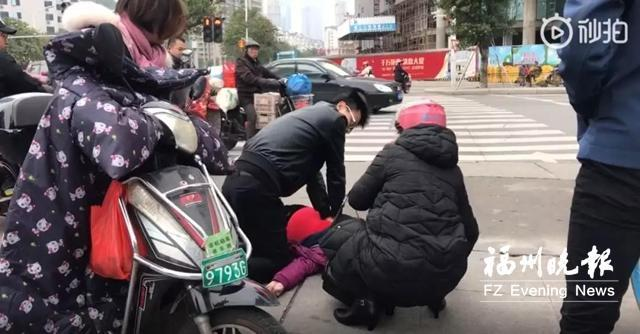Fall-Detected: (229, 187, 397, 293)
